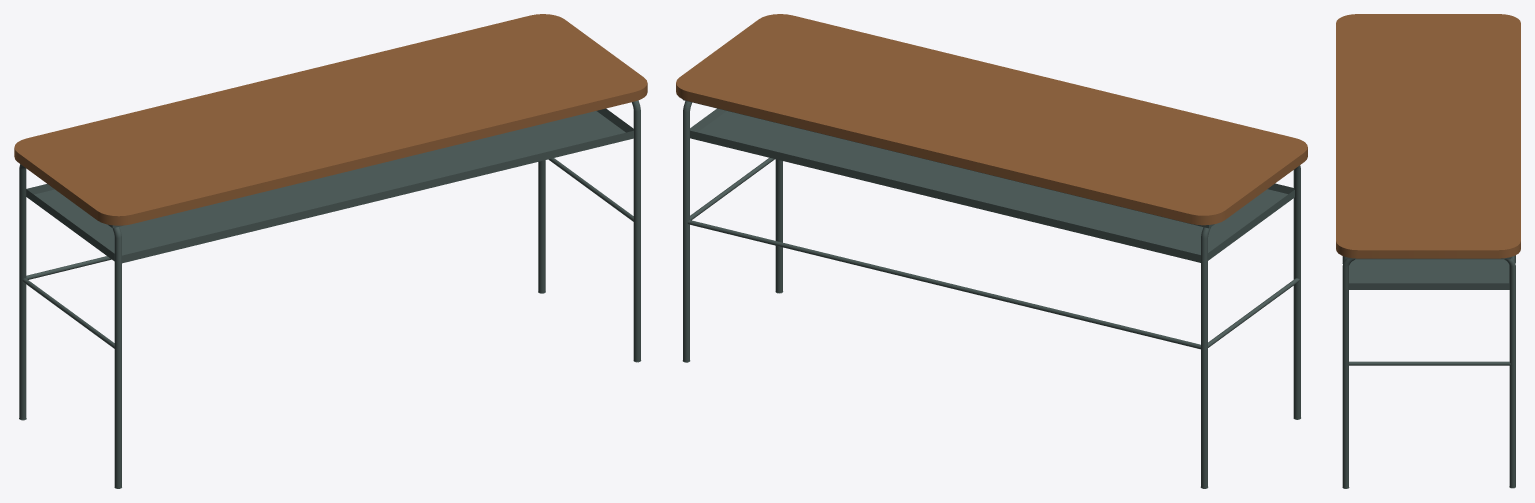
The model's file is MesaEscuela - School Table.obj.
The picture shows the model from 3 angles, left to right: view 1: azimuth 30°, elevation 25°; view 2: azimuth 150°, elevation 25°; view 3: azimuth 270°, elevation 25°; orthographic projection. The views are drawn at different scales.
Visible parts, largest first — view 1: BancoEscuela_Cube.003; view 2: BancoEscuela_Cube.003; view 3: BancoEscuela_Cube.003.
Part boxes in pixels (<box>): BancoEscuela_Cube.003: <box>14,14,647,488</box>; BancoEscuela_Cube.003: <box>676,14,1307,488</box>; BancoEscuela_Cube.003: <box>1336,14,1520,488</box>.
Size of the model in its own units: 6.04 by 2.9 by 2.
